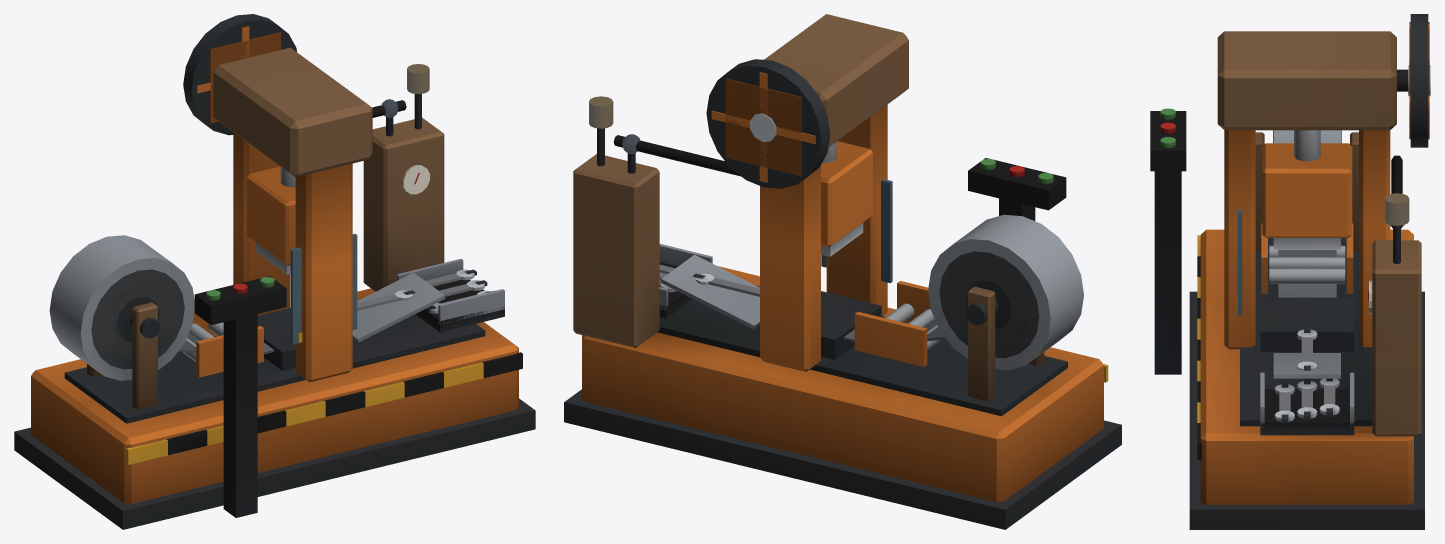
The model's file is tool_press.glb.
3 views of the same model, side by side, from view 1: azimuth 30°, elevation 25°; view 2: azimuth 150°, elevation 25°; view 3: azimuth 270°, elevation 25° (orthographic). The views are drawn at different scales.
Parts seen in each view (by area): view 1: tool_press_body, tcoil, flywheel, ram, beacon; view 2: tool_press_body, tcoil, flywheel, ram, beacon; view 3: tool_press_body, ram, flywheel, beacon, tool_out, tcoil.
Part boxes in pixels (x1=…): tool_press_body: x1=14, y1=47, x2=535, y2=529; tcoil: x1=49, y1=235, x2=194, y2=380; flywheel: x1=183, y1=14, x2=296, y2=135; ram: x1=247, y1=166, x2=295, y2=274; beacon: x1=407, y1=64, x2=429, y2=94; tool_press_body: x1=564, y1=14, x2=1121, y2=529; tcoil: x1=928, y1=214, x2=1083, y2=370; flywheel: x1=706, y1=59, x2=830, y2=188; ram: x1=821, y1=141, x2=872, y2=256; beacon: x1=589, y1=96, x2=613, y2=128; tool_press_body: x1=1150, y1=31, x2=1424, y2=529; ram: x1=1262, y1=130, x2=1352, y2=249; flywheel: x1=1408, y1=14, x2=1430, y2=147; beacon: x1=1384, y1=193, x2=1409, y2=225; tool_out: x1=1297, y1=327, x2=1317, y2=370; tcoil: x1=1273, y1=130, x2=1341, y2=143.
Bounding box in the file's own units: 2.34 × 2.02 × 1.25.
